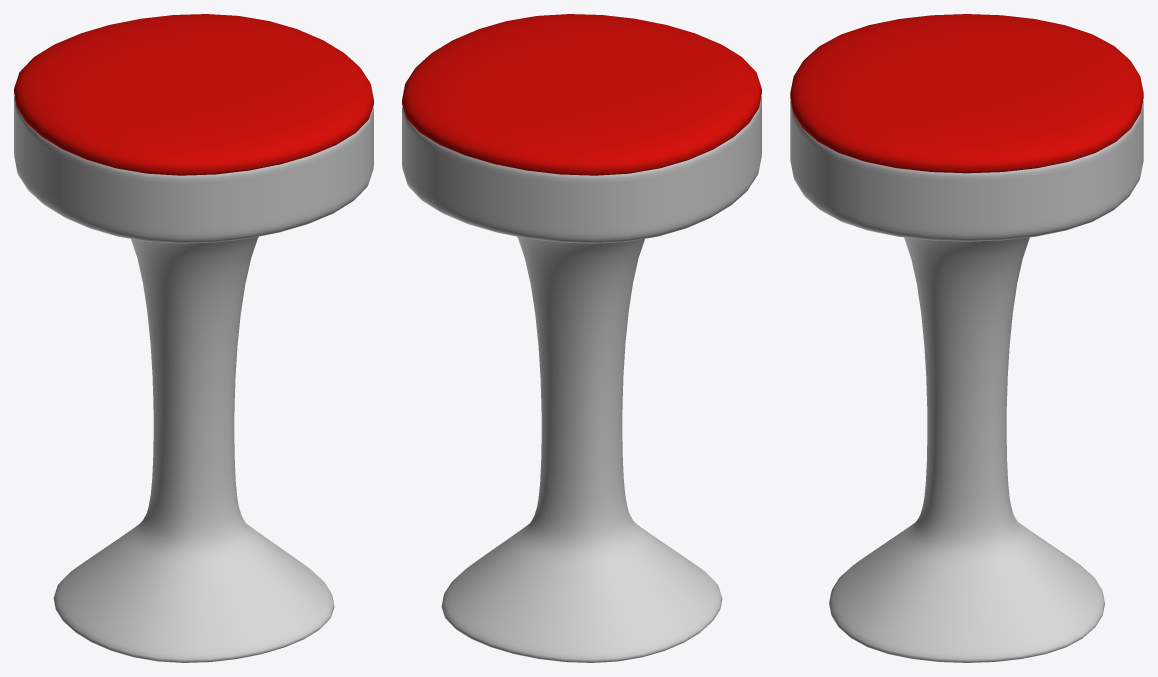
Rendered from DinerStoolMesh.fbx.
3 renders of one model, left to right at view 1: azimuth 30°, elevation 25°; view 2: azimuth 150°, elevation 25°; view 3: azimuth 270°, elevation 25°, orthographic.
Parts seen in each view (by area): view 1: DinerStoolMesh; view 2: DinerStoolMesh; view 3: DinerStoolMesh.
Boxes of the visible parts, x1,y1,x2,y2 form: DinerStoolMesh: [14, 14, 373, 662]; DinerStoolMesh: [402, 14, 761, 662]; DinerStoolMesh: [790, 14, 1143, 662].
Bounding box in the file's own units: 4217 × 7047 × 4217.
